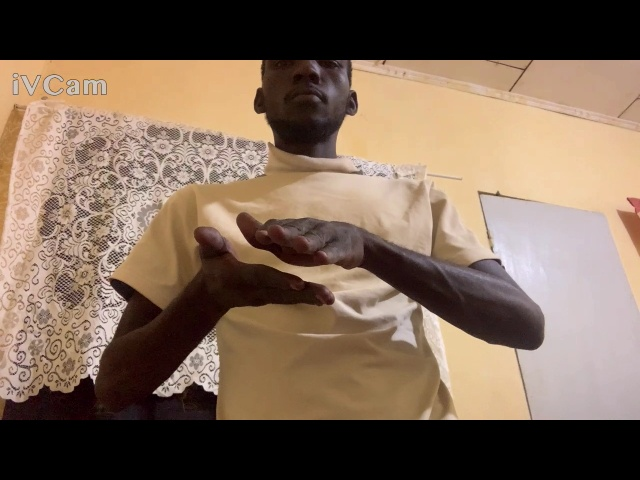pardon: (187, 208, 398, 312)
